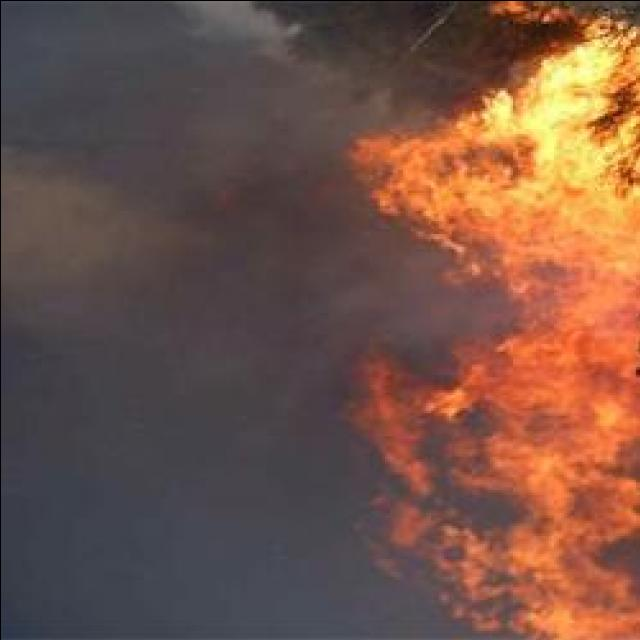fire: (496, 45, 636, 306)
smoke: (349, 125, 441, 194)
